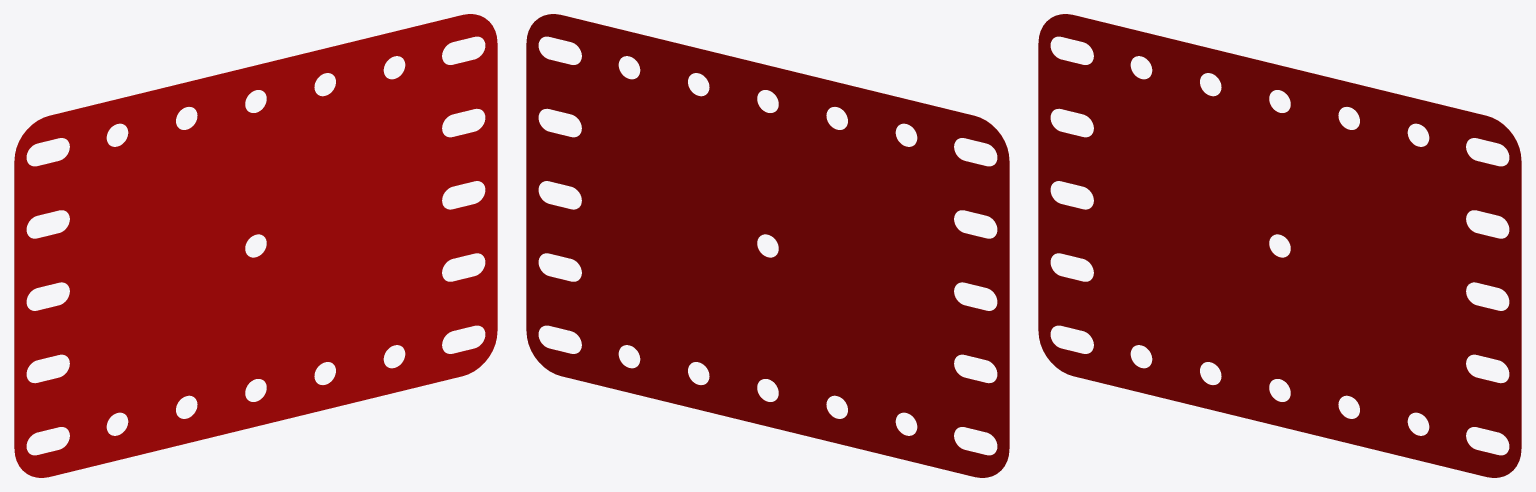
Rendered from TamPhang_5x7_NhuaMem_Do.glb.
The picture shows the model from 3 angles, left to right: view 1: azimuth 30°, elevation 25°; view 2: azimuth 150°, elevation 25°; view 3: azimuth 330°, elevation 25°; orthographic projection.
Parts seen in each view (by area): view 1: defaultobject.001; view 2: defaultobject.001; view 3: defaultobject.001.
Boxes of the visible parts, x1=… form: defaultobject.001: x1=14, y1=14, x2=497, y2=477; defaultobject.001: x1=526, y1=14, x2=1009, y2=477; defaultobject.001: x1=1038, y1=14, x2=1521, y2=477.
Size of the model in its own units: 221 by 158 by 0.126.
